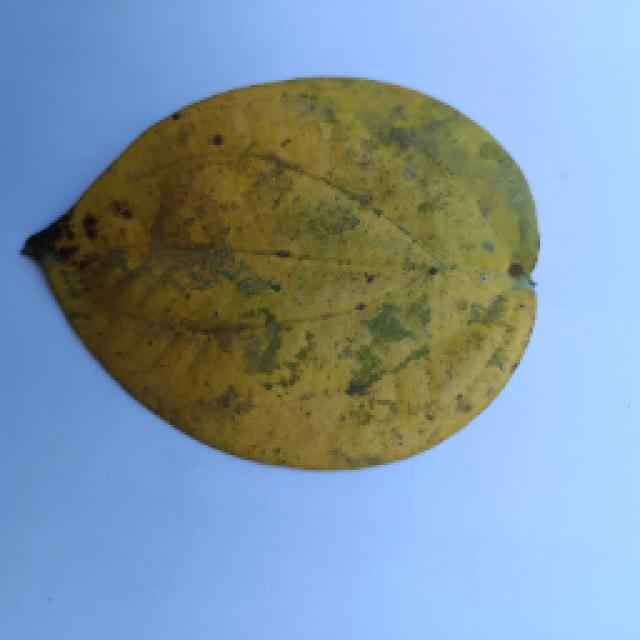slow-decline: (5, 67, 570, 475)
